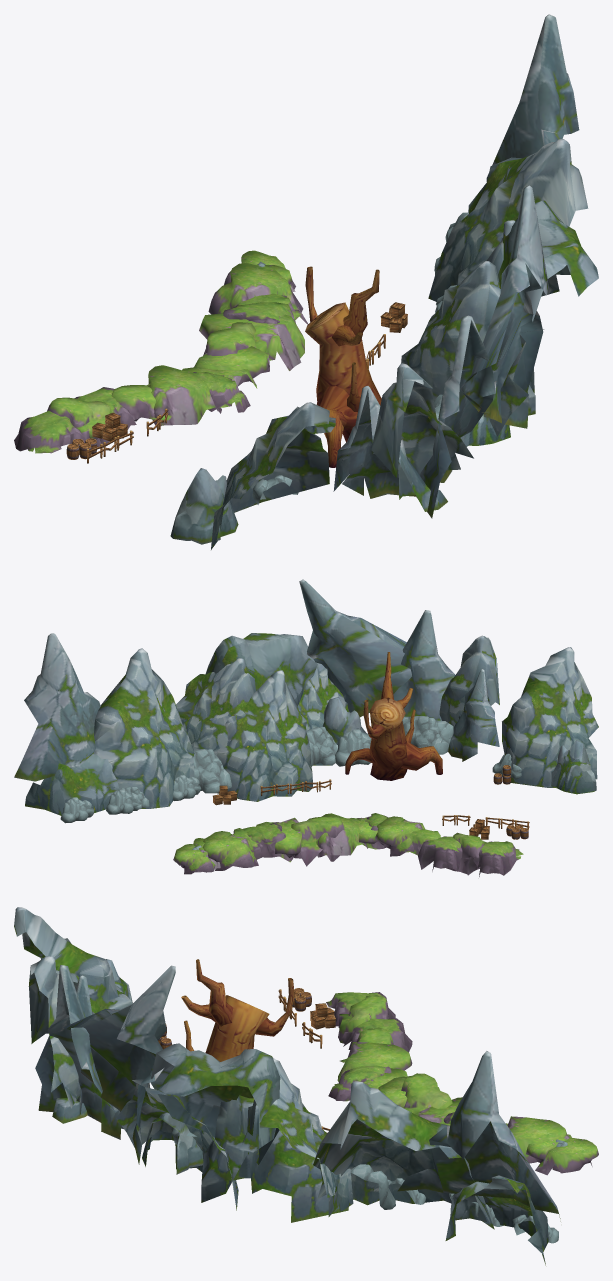
File: yanshi3.FBX
3 views of the same model, one above another, from view 1: azimuth 30°, elevation 25°; view 2: azimuth 150°, elevation 25°; view 3: azimuth 270°, elevation 25° (orthographic). The views are drawn at different scales.
Parts seen in each view (by area): view 1: yanshi3; view 2: yanshi3; view 3: yanshi3.
Boxes of the visible parts, x1,y1,x2,y2 form: yanshi3: (14, 14, 598, 549); yanshi3: (14, 579, 598, 876); yanshi3: (14, 907, 598, 1265).
Bounding box in the file's own units: 4880 × 1950 × 4272.
